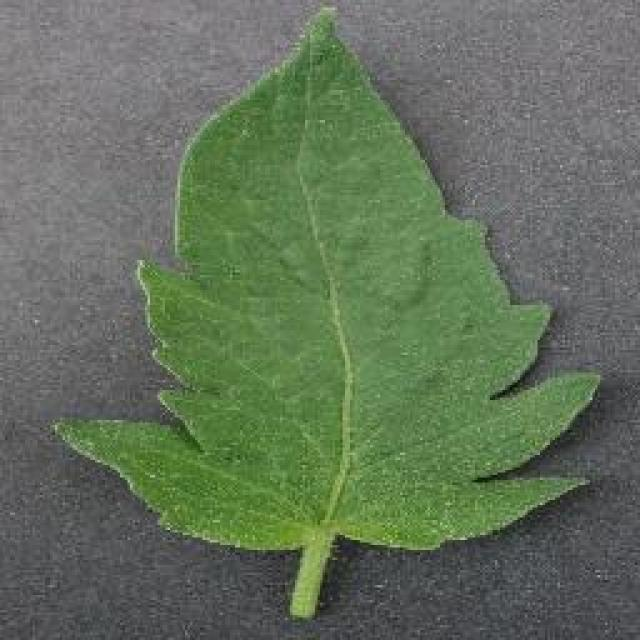Tomato healthy leaf: (72, 6, 600, 602)
